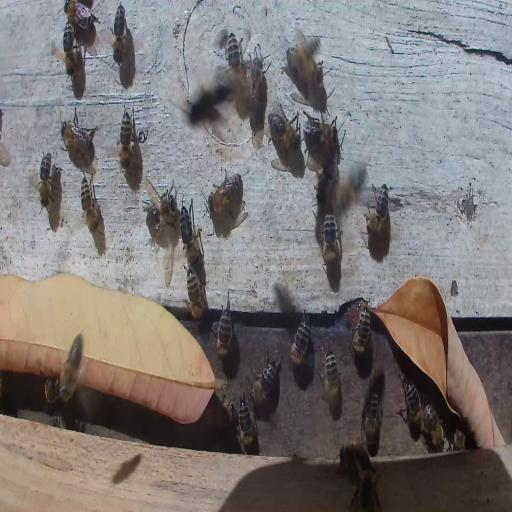nonpollenbee: (61, 114, 98, 165), (266, 110, 302, 158), (246, 50, 267, 132), (305, 112, 341, 156), (250, 357, 280, 408), (364, 182, 391, 236), (144, 191, 176, 235), (212, 170, 241, 216), (321, 352, 343, 411), (179, 202, 199, 266), (235, 396, 257, 454), (400, 379, 422, 437), (363, 387, 382, 453), (80, 175, 102, 232), (422, 402, 446, 452), (290, 312, 311, 368), (352, 300, 372, 358), (352, 466, 378, 510), (321, 210, 340, 269), (186, 269, 206, 321), (65, 2, 99, 32), (119, 106, 133, 173), (316, 158, 336, 203), (216, 302, 232, 358), (112, 3, 126, 66), (43, 378, 72, 407), (336, 440, 368, 466), (39, 150, 52, 208), (63, 20, 76, 76), (226, 35, 240, 69), (450, 426, 466, 452)
pollenbee: (58, 329, 88, 401), (290, 38, 319, 85)
